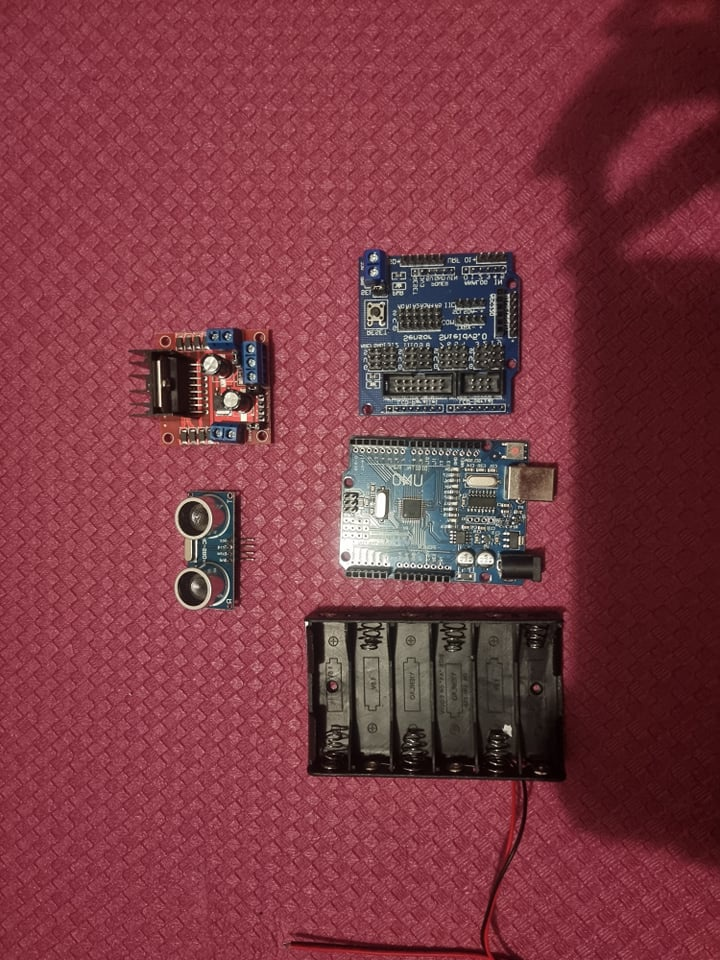5V EXPANSION: (356, 252, 521, 416)
BATTERY BOX: (304, 610, 567, 779)
MOTOR: (129, 329, 270, 449)
SENSOR: (170, 487, 243, 613)
UNO R3: (336, 434, 560, 588)
